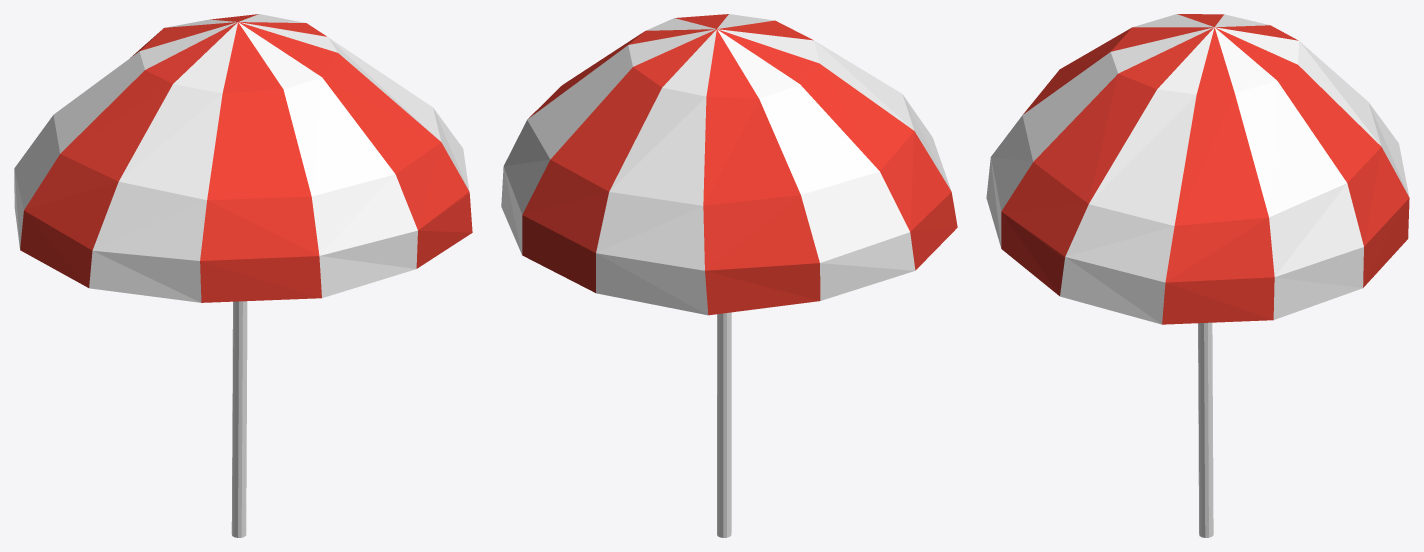
File: Parasol.obj
The picture shows the model from 3 angles, left to right: view 1: azimuth 30°, elevation 25°; view 2: azimuth 150°, elevation 25°; view 3: azimuth 270°, elevation 25°; orthographic projection.
Visible parts, largest first — view 1: group822346014, group1776344293; view 2: group822346014, group1776344293; view 3: group822346014, group1776344293.
Part boxes in pixels (left/top/right/bottom): group822346014: left=14, top=14, right=472, bottom=302; group1776344293: left=231, top=301, right=247, bottom=537; group822346014: left=501, top=14, right=957, bottom=315; group1776344293: left=717, top=312, right=731, bottom=537; group822346014: left=986, top=14, right=1409, bottom=324; group1776344293: left=1198, top=322, right=1213, bottom=537.
Bounding box in the file's own units: 0.5675 × 0.6732 × 0.5069.
